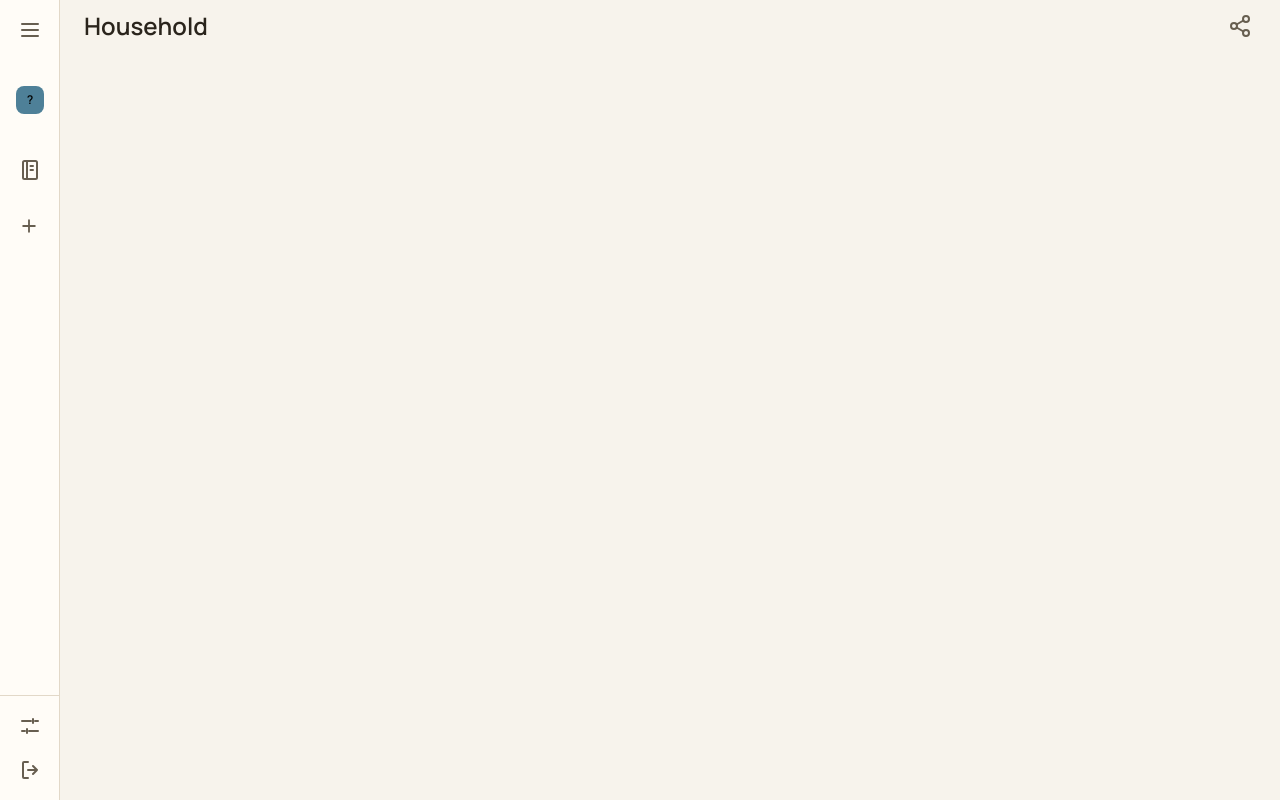
it: KitchenDetailChrome › closes the dialog with its Close button
This screenshot has width=1280, height=800.
Step 1. Click the button named "Invite someone" → [1240, 26], box [1224,10,1256,42]
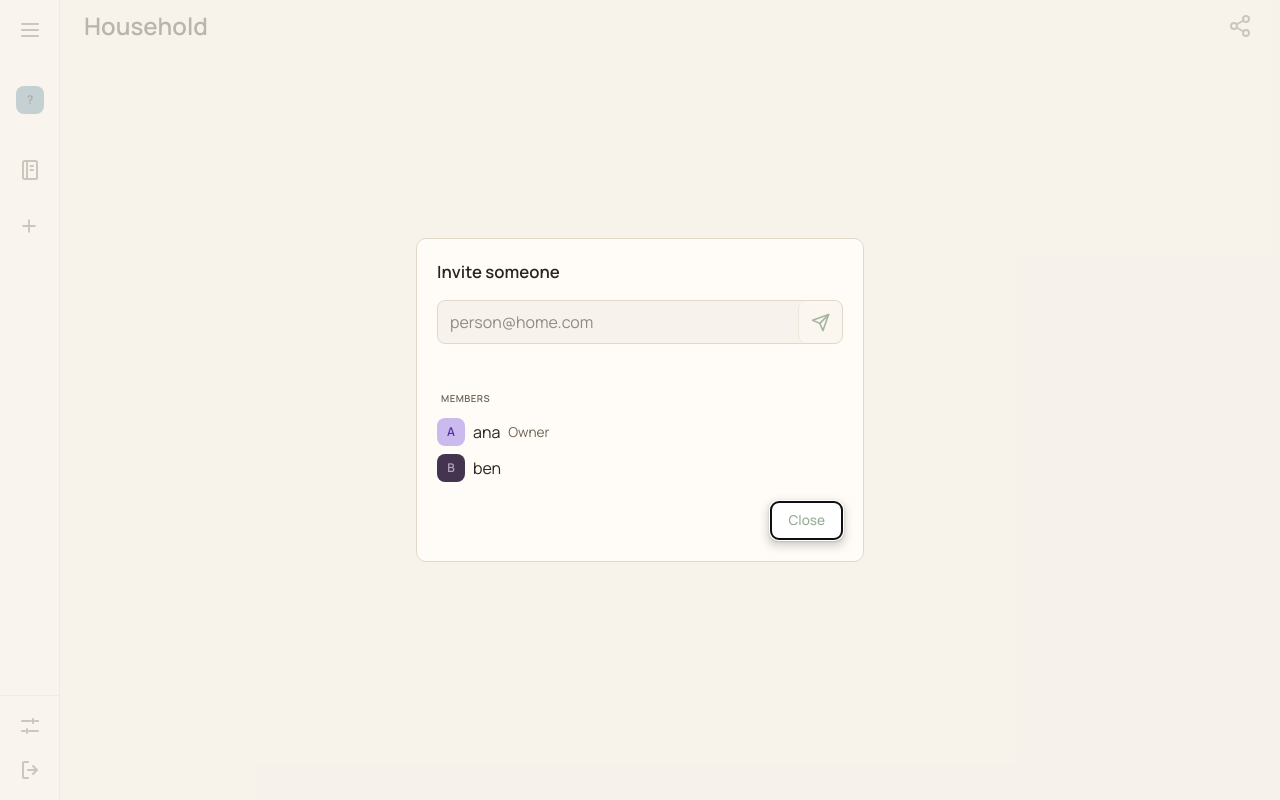
Step 2. Click the button "Close" → [807, 521], box [770,501,843,540]
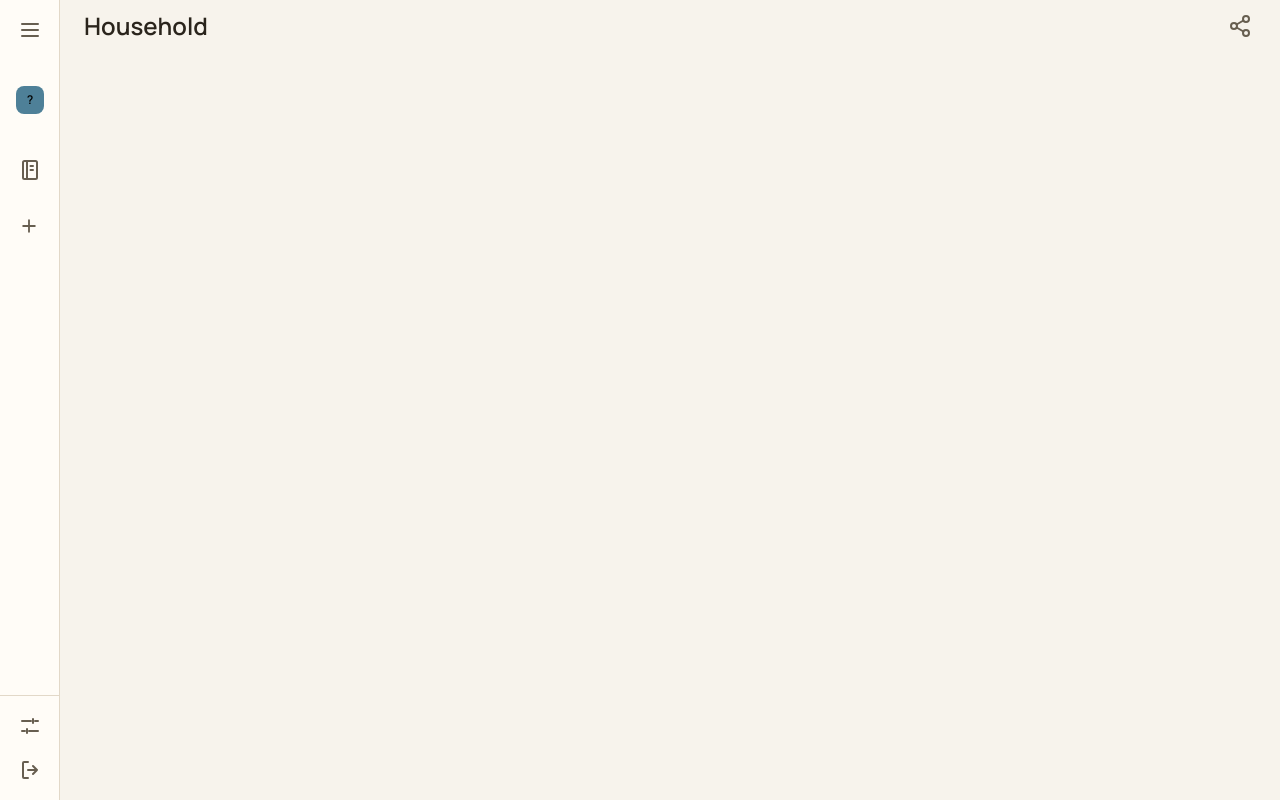
expect the dialog is gone: met
